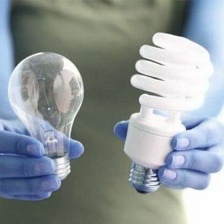light_bulb: (117, 26, 217, 200), (5, 47, 87, 189)
